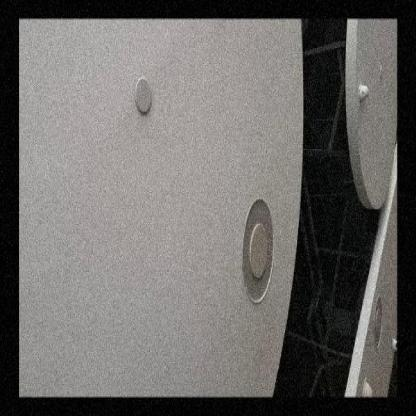light_off: (227, 173, 282, 327), (363, 280, 387, 355)
